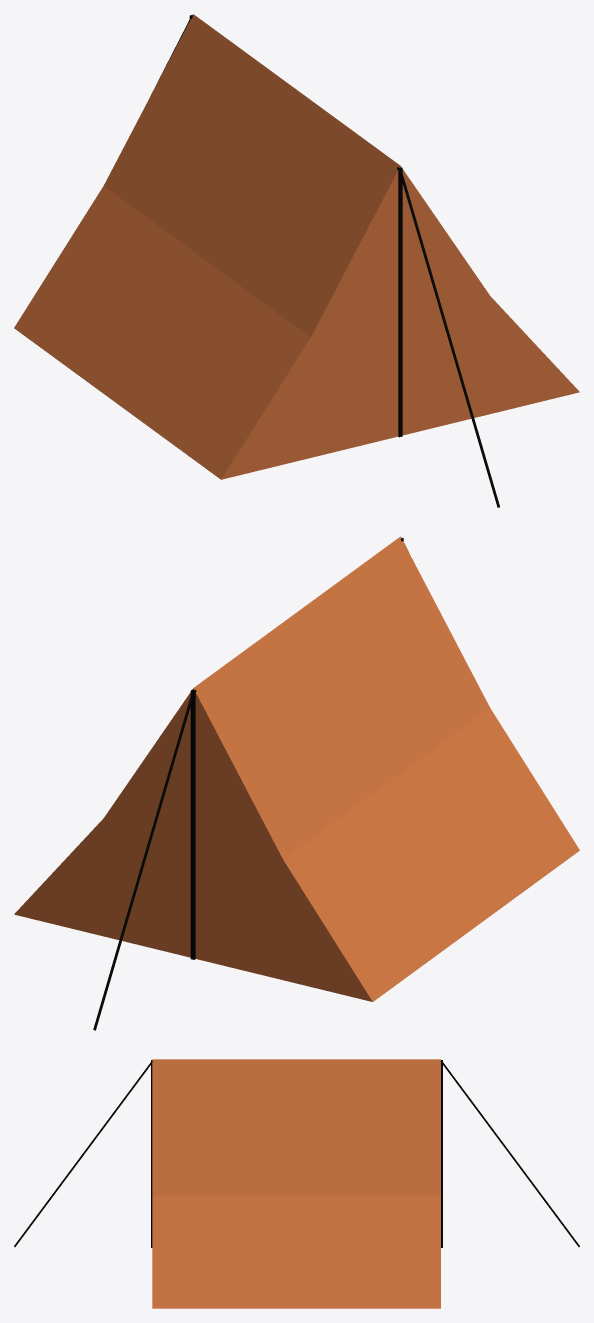
Rendered from tent3.fbx.
The picture shows the model from 3 angles, top to bottom: view 1: azimuth 30°, elevation 25°; view 2: azimuth 150°, elevation 25°; view 3: azimuth 270°, elevation 25°; orthographic projection. The views are drawn at different scales.
Visible parts, largest first — view 1: Cube, Cube.002, Cube.004; view 2: Cube, Cube.001, Cube.003; view 3: Cube, Cube.004, Cube.003, Cube.002, Cube.001.
Part boxes in pixels (x1,y1,x2,y2): Cube: (14, 14, 579, 479); Cube.002: (397, 167, 402, 437); Cube.004: (400, 170, 499, 507); Cube: (14, 536, 579, 1001); Cube.001: (190, 689, 196, 959); Cube.003: (93, 693, 193, 1030); Cube: (152, 1059, 440, 1308); Cube.004: (14, 1062, 150, 1246); Cube.003: (443, 1062, 579, 1246); Cube.002: (151, 1060, 153, 1247); Cube.001: (440, 1060, 442, 1247).
Size of the model in its own units: 2 by 1.44 by 3.92.
